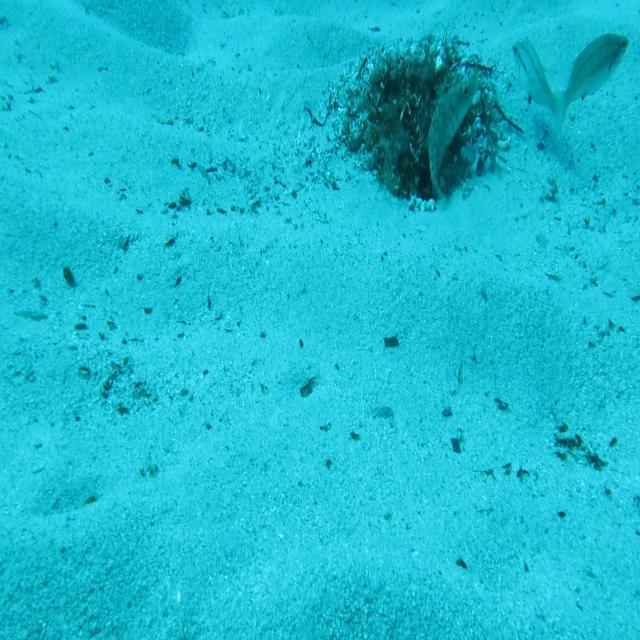LF: (423, 74, 480, 210)
core_nest: (400, 69, 454, 105)
female: (547, 31, 629, 146), (511, 37, 562, 132)
nest: (333, 31, 510, 217)
vegetation: (298, 372, 316, 399), (62, 263, 79, 288), (382, 332, 400, 350)
